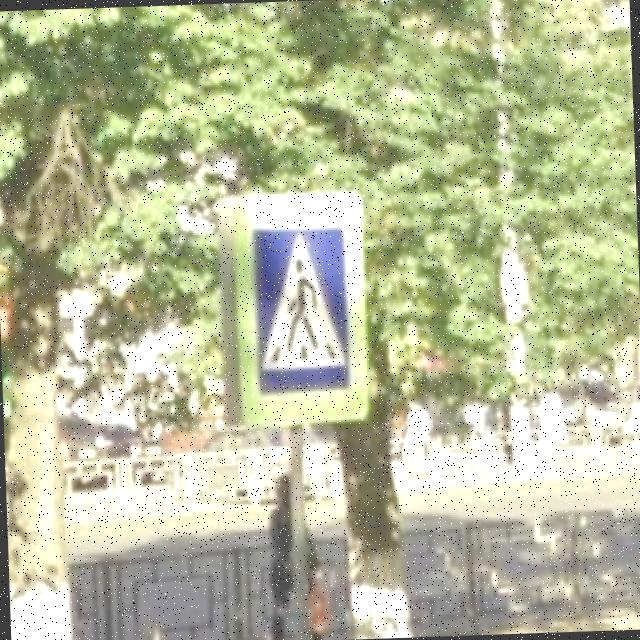Przejscie dla pieszych: (226, 186, 370, 432)
